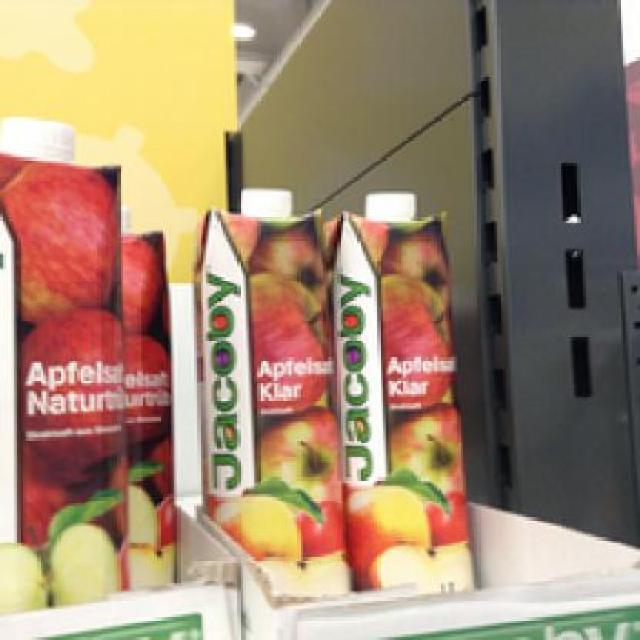Juice: (188, 185, 348, 598), (0, 117, 126, 614), (332, 188, 474, 588)
